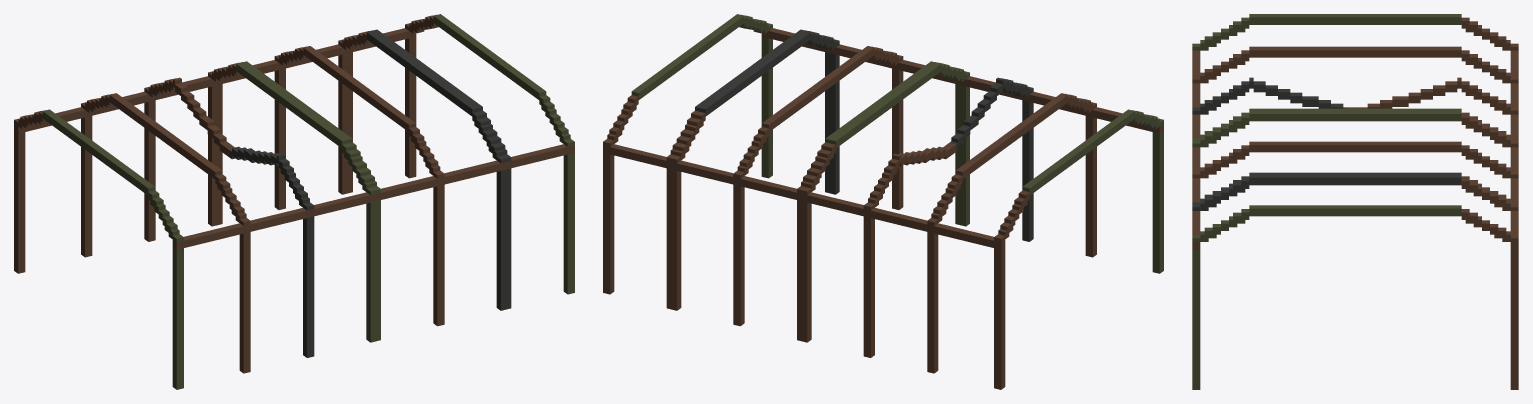
Rendered from abandoned_army_truck_hoops.glb.
The picture shows the model from 3 angles, left to right: view 1: azimuth 30°, elevation 25°; view 2: azimuth 150°, elevation 25°; view 3: azimuth 270°, elevation 25°; orthographic projection.
Visible parts, largest first — view 1: body:compound; view 2: body:compound; view 3: body:compound.
Boxes of the visible parts, <box> form: body:compound: <box>14,14,574,389</box>; body:compound: <box>603,14,1163,389</box>; body:compound: <box>1192,14,1518,389</box>.
Size of the model in its own units: 3.53 by 1.53 by 2.5.
